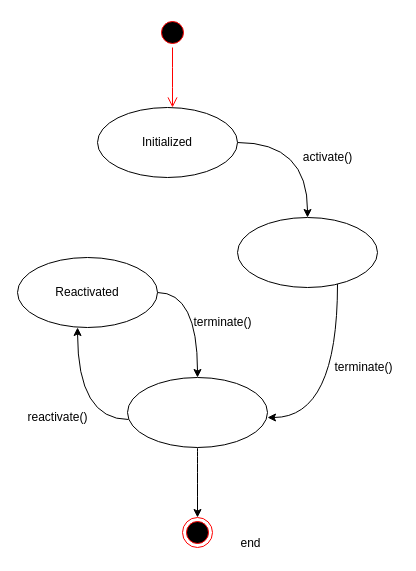
The diagram is 416 pixels wide and 571 high, and some of its shapes have lost their labels. The shapes that lost their labels are listed below. From the top down, each one's box as (x1, y1, x2, y2) in pixels, then its label:
(236, 216, 378, 288): Activated
(126, 376, 268, 448): Terminated
